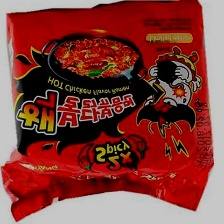snack: (0, 0, 220, 224)
